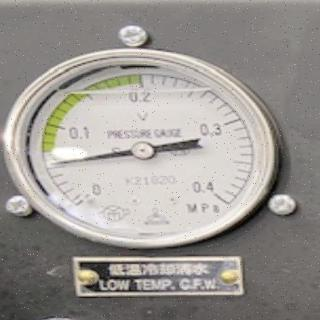gauge: (0, 43, 312, 257), (69, 180, 104, 216), (202, 181, 230, 207), (132, 140, 156, 160), (48, 158, 64, 168)
